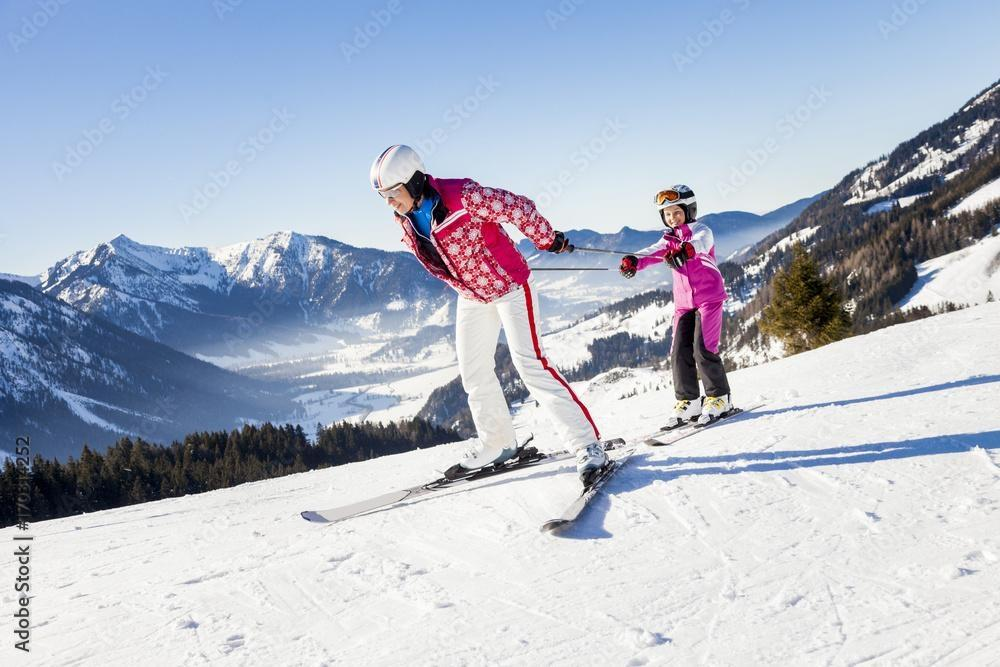Skis: (282, 402, 641, 568)
